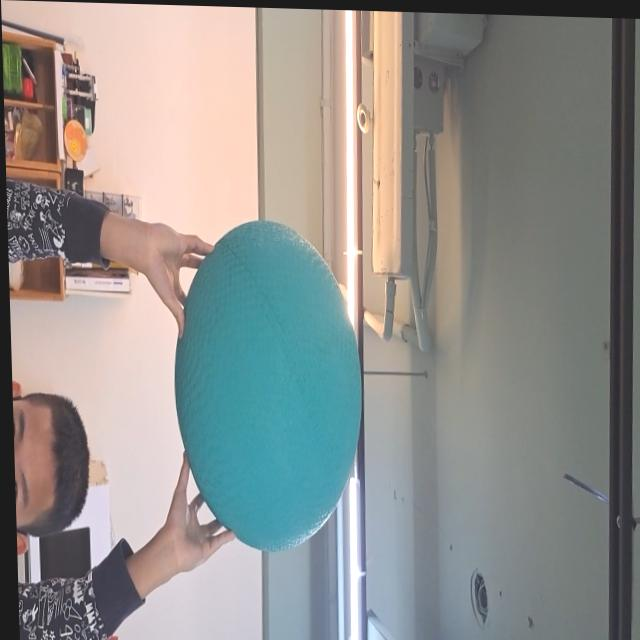ALGAE: (169, 223, 364, 555)
